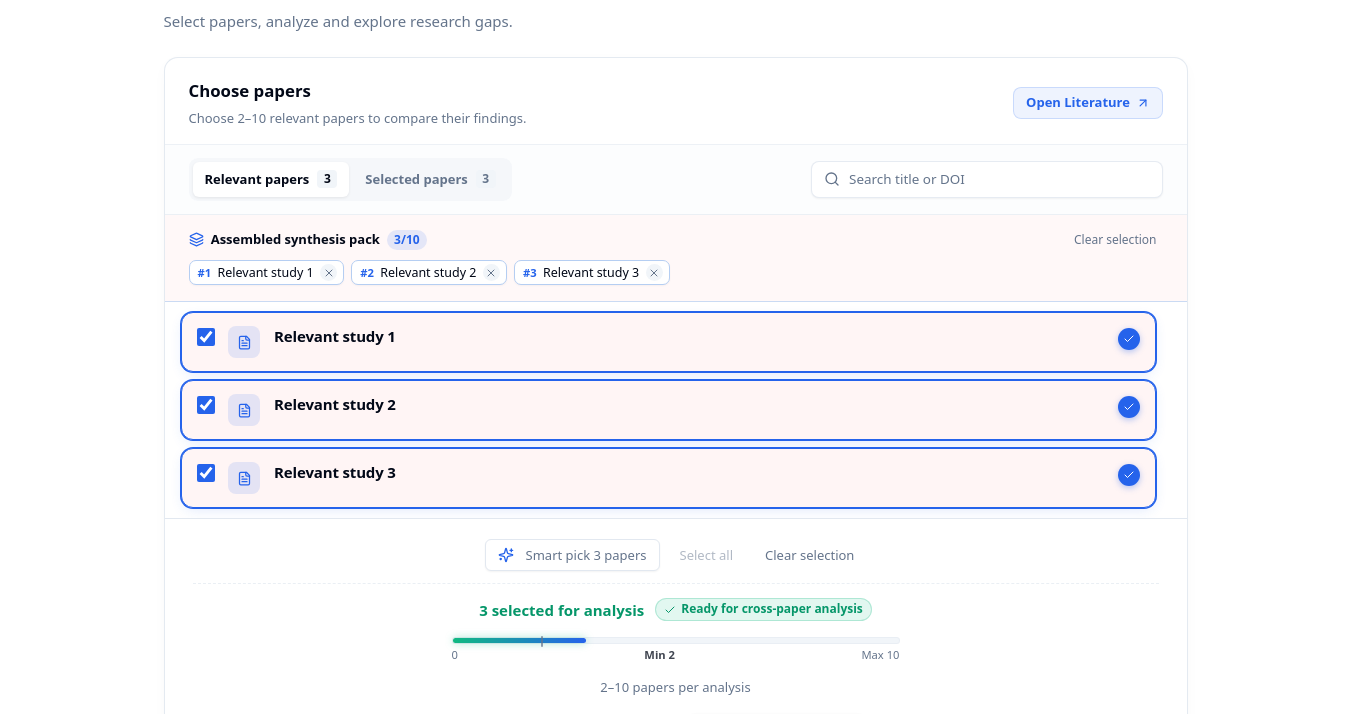
submits only selected eligible papers into the existing analyze API
The image size is (1366, 714).
Click the checkbox labelled "Relevant study 3": click(206, 473) [196,464,215,482]
(page scrolled)
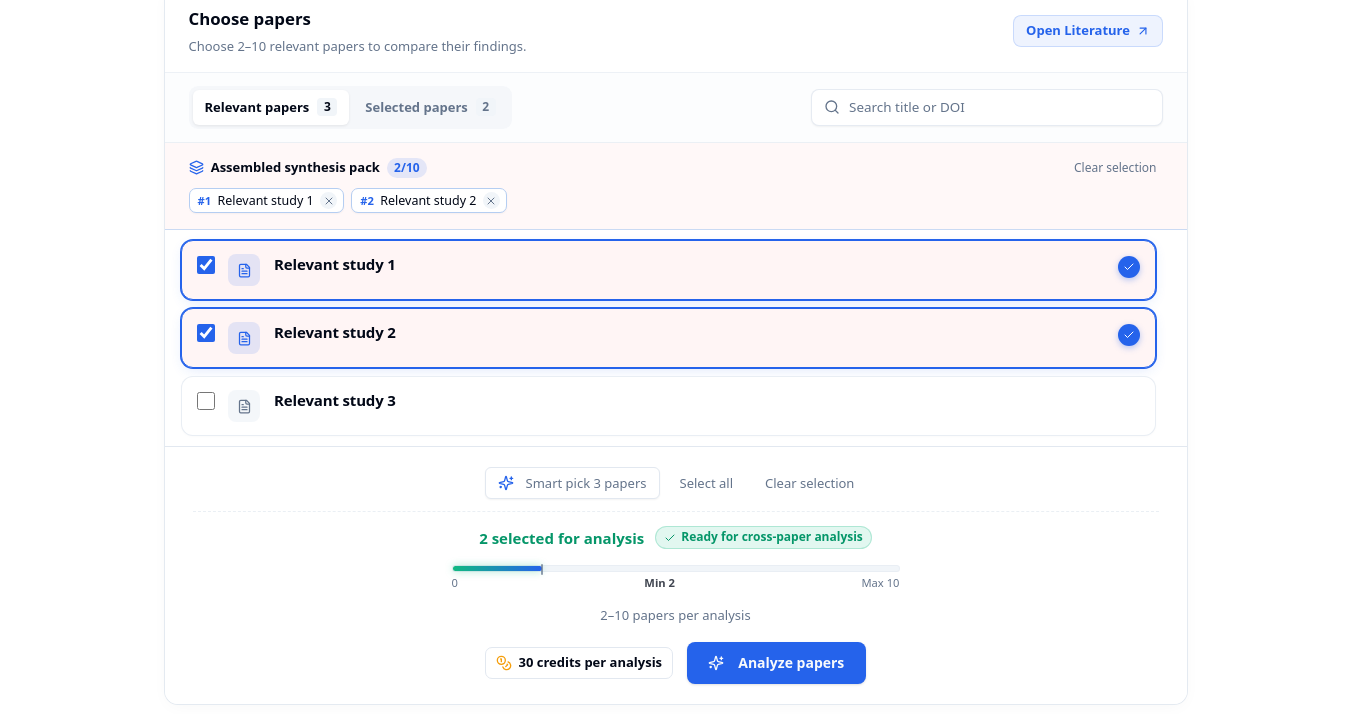
Click the button "Analyze papers": click(776, 663) [687,642,866,684]
(page scrolled)
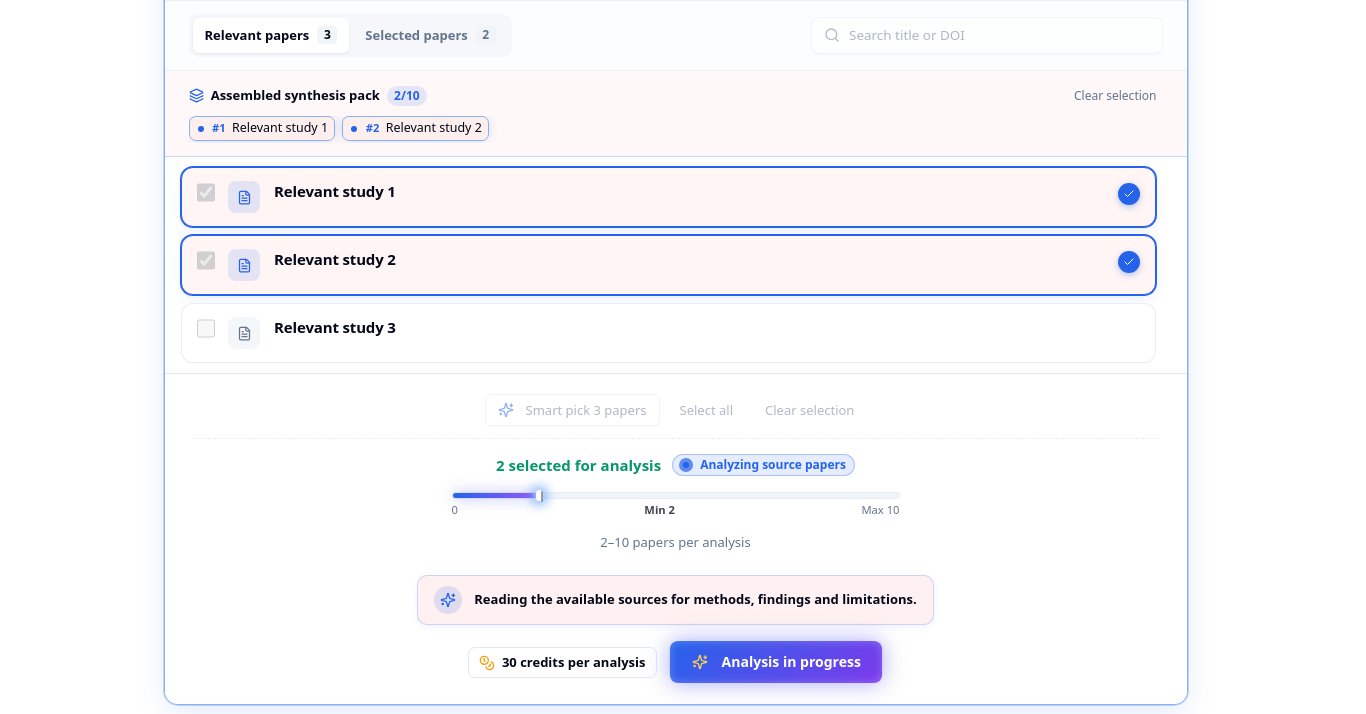
Now the text "Analyzing source papers" is shown, box [672,454,855,476]
Now the button "Analysis in progress" is disabled, box [670,641,883,684]
